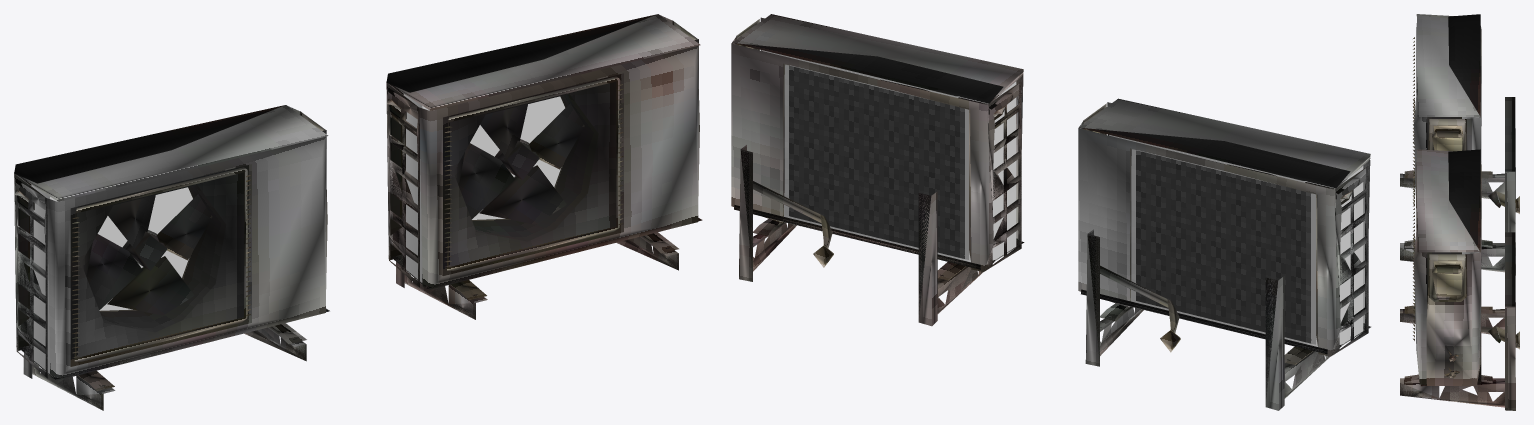
File: exterior_aircon_unit.glb
3 renders of one model, left to right at view 1: azimuth 30°, elevation 25°; view 2: azimuth 150°, elevation 25°; view 3: azimuth 270°, elevation 25°, orthographic. The views are drawn at different scales.
Visible parts, largest first — view 1: exterior_aircon_unit, exterior_aircon_unit_rusted; view 2: exterior_aircon_unit_rusted, exterior_aircon_unit; view 3: exterior_aircon_unit_rusted, exterior_aircon_unit.
Boxes of the visible parts, x1,y1,x2,y2 form: exterior_aircon_unit: (14, 105, 329, 410); exterior_aircon_unit_rusted: (386, 14, 702, 319); exterior_aircon_unit_rusted: (731, 14, 1024, 326); exterior_aircon_unit: (1078, 98, 1370, 410); exterior_aircon_unit_rusted: (1400, 149, 1519, 410); exterior_aircon_unit: (1400, 14, 1519, 275).
Size of the model in its own units: 1.8 by 0.6028 by 0.3742.
Materials: 4 (4 with a texture image).
